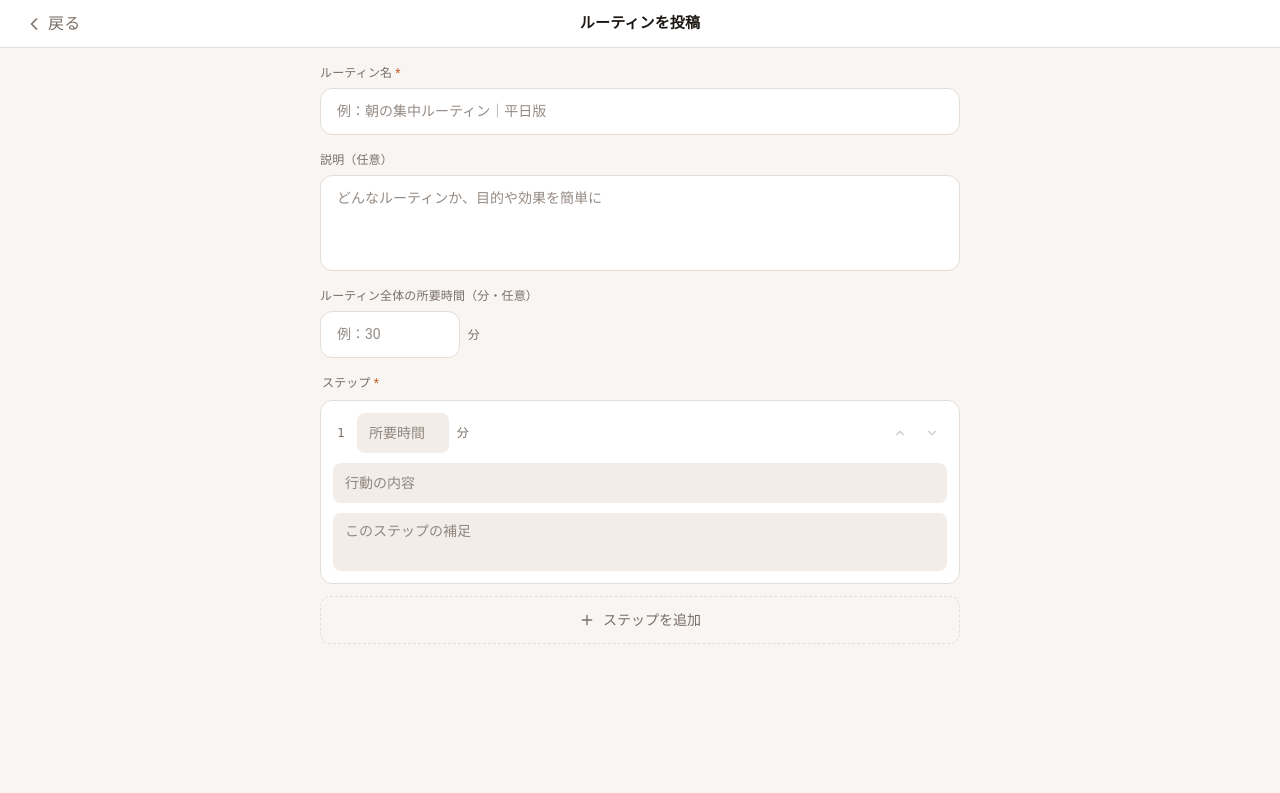
Test: RoutineCreatePage › ステップを追加・並べ替え・削除できる
This screenshot has width=1280, height=793.
Type "一番目" into the field with placeholder "行動の内容" at x=640, y=483, box [333, 463, 947, 503]
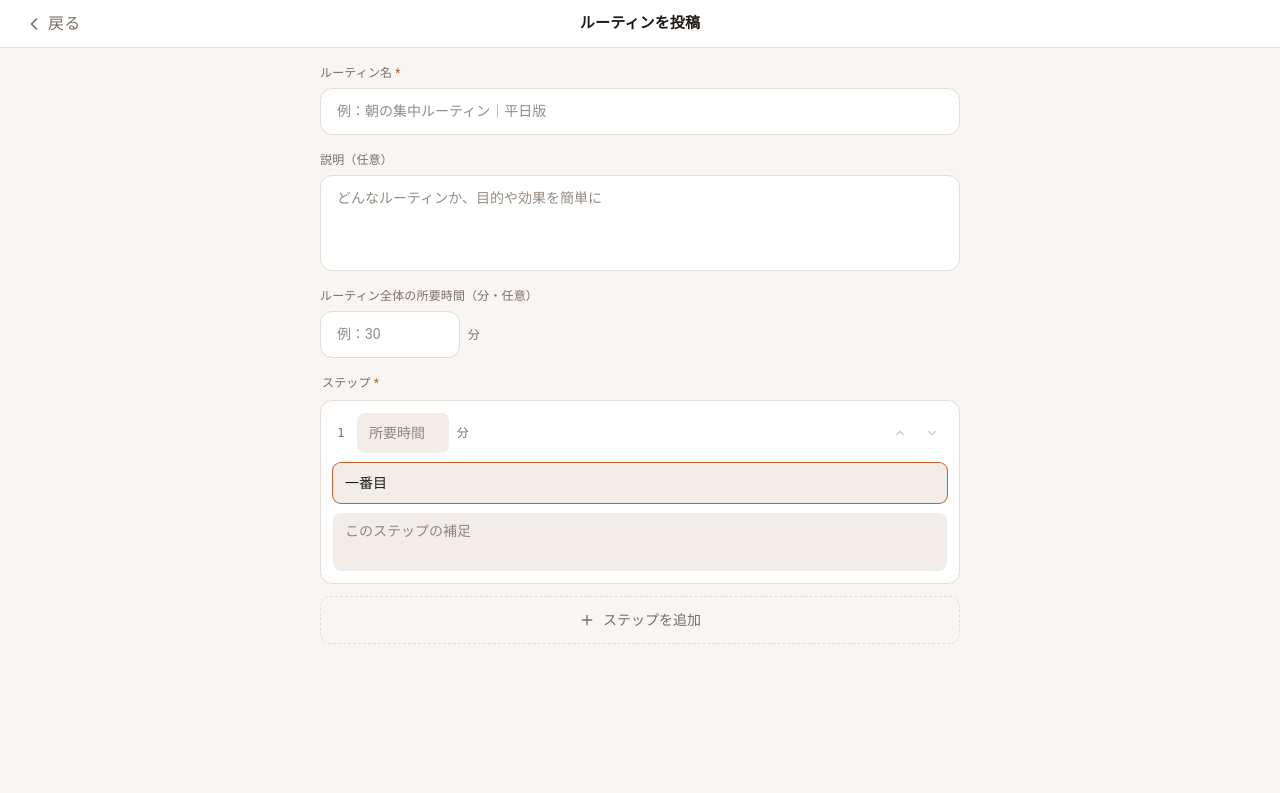
Click the button "ステップを追加" at x=640, y=620, box [320, 596, 960, 644]
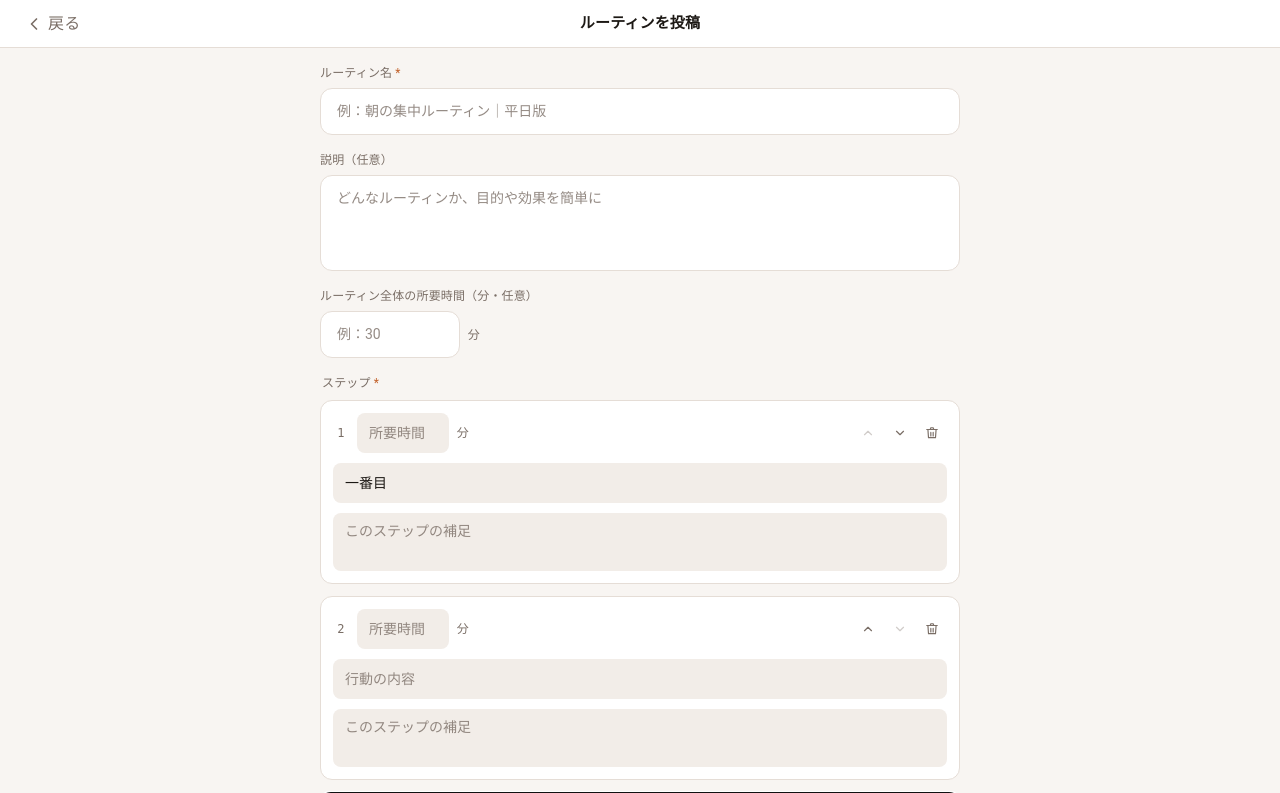
Type "二番目" into the field with placeholder "行動の内容" at x=640, y=679, box [333, 659, 947, 699]
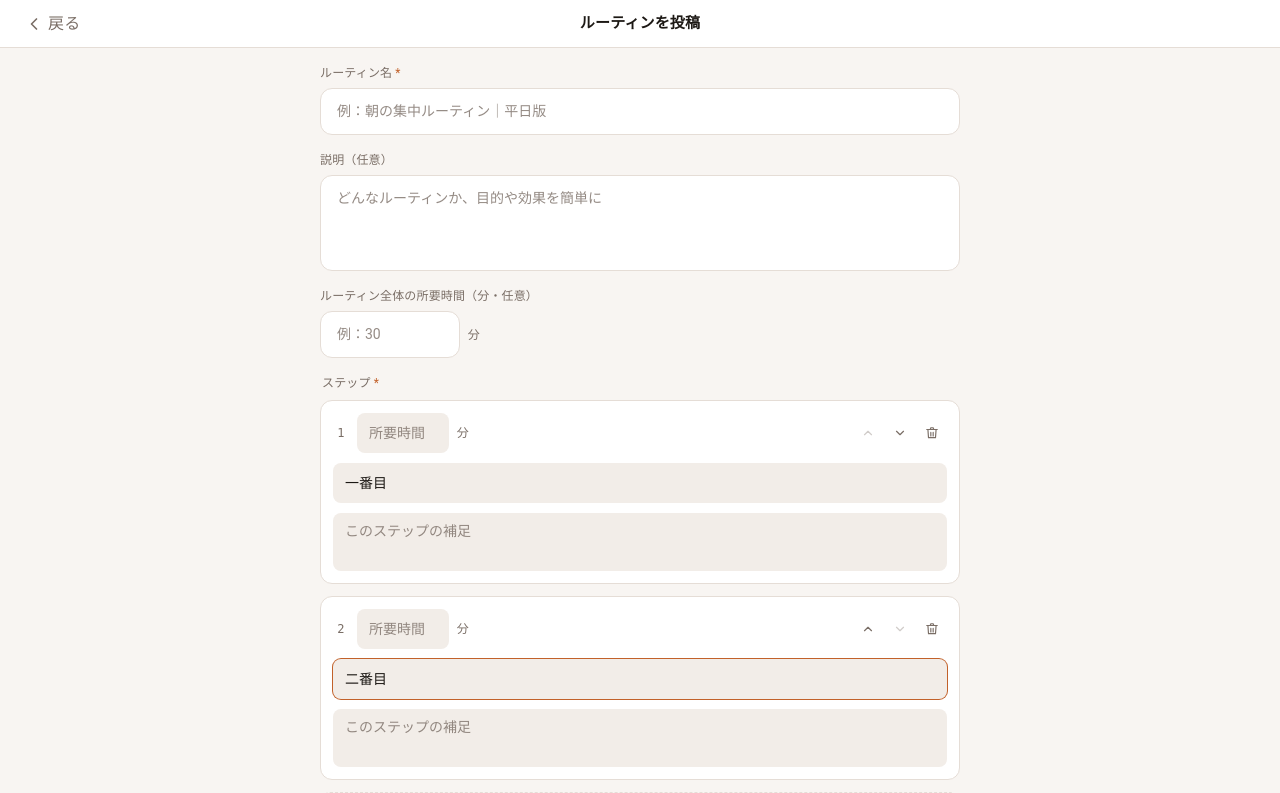
Click the button named "上へ移動 2" at x=868, y=629, box [853, 614, 883, 644]
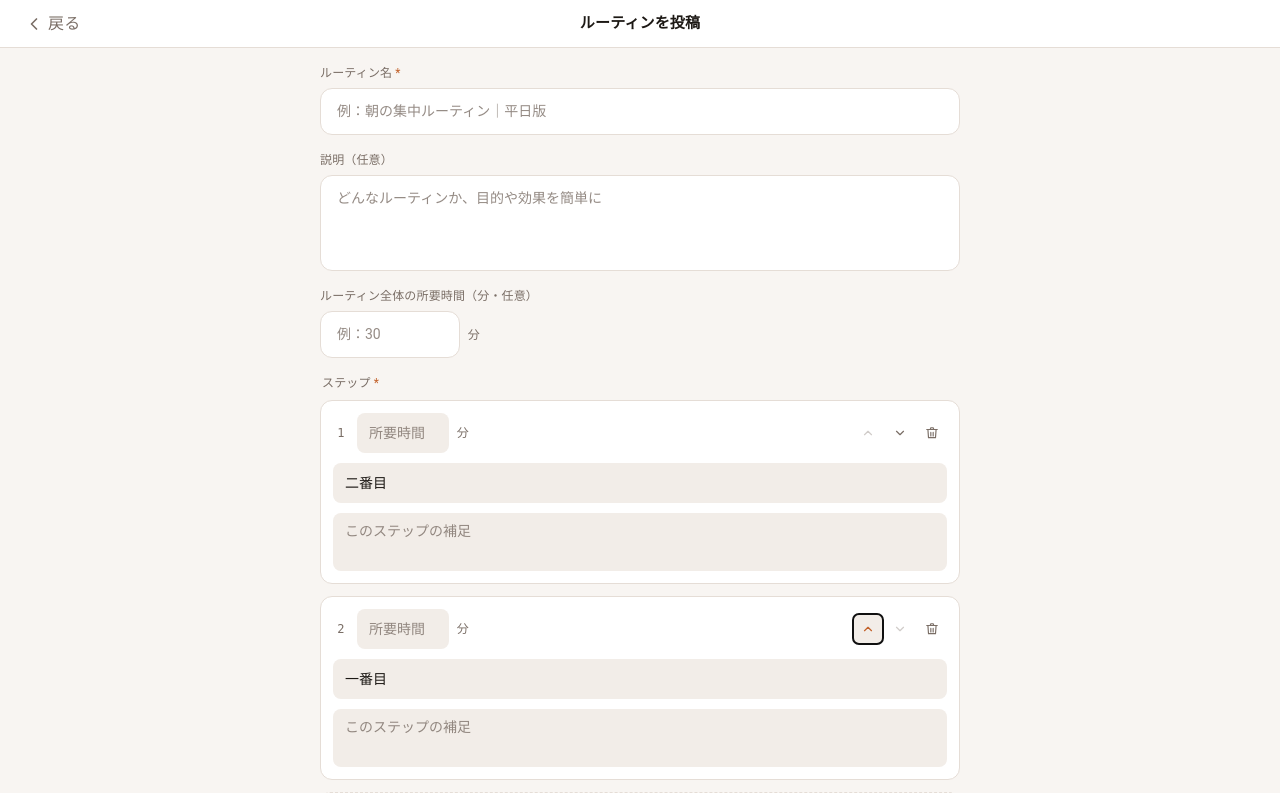
Click the button named "ステップを削除 1" at x=932, y=433, box [917, 418, 947, 448]
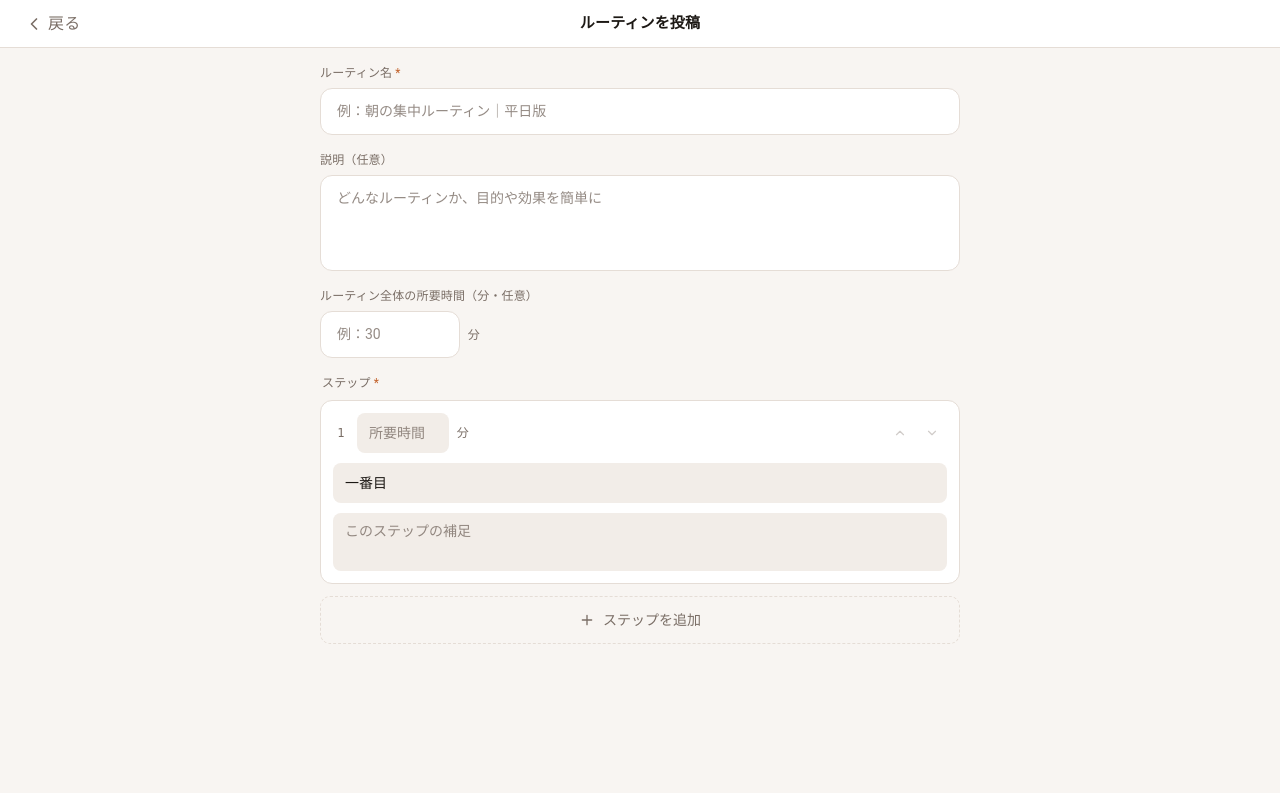
Now the number of fields with placeholder "行動の内容" is 1, box [333, 463, 947, 503]
